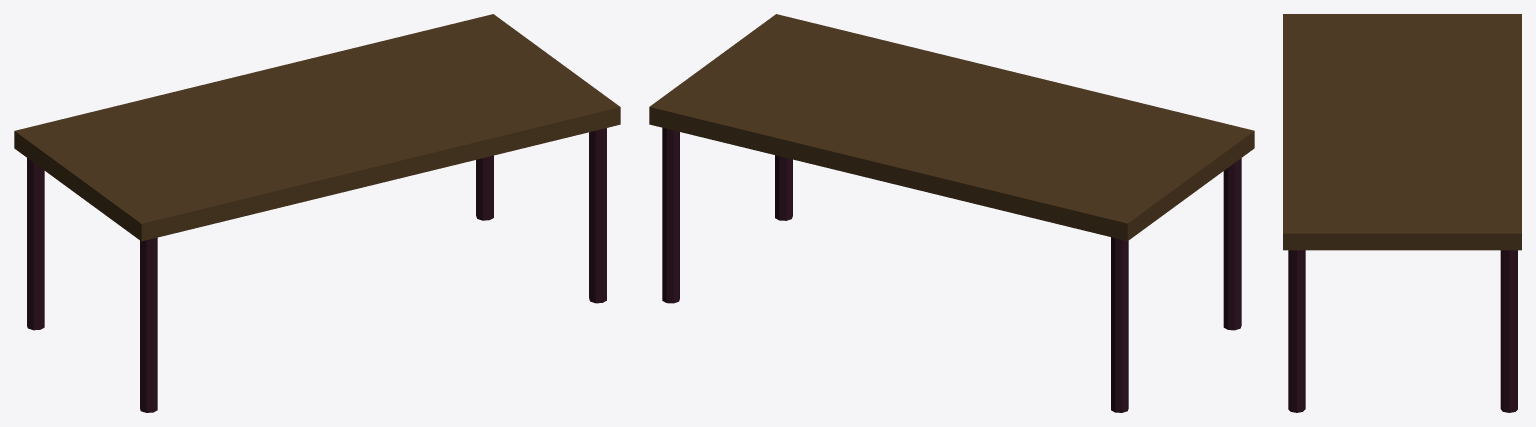
File: Tisch.fbx
The picture shows the model from 3 angles, left to right: view 1: azimuth 30°, elevation 25°; view 2: azimuth 150°, elevation 25°; view 3: azimuth 270°, elevation 25°; orthographic projection. The views are drawn at different scales.
Visible parts, largest first — view 1: Tisch; view 2: Tisch; view 3: Tisch.
Part boxes in pixels (x1,y1,x2,y2): Tisch: (14, 14, 620, 412); Tisch: (649, 14, 1254, 412); Tisch: (1283, 14, 1521, 412).
Bounding box in the file's own units: 435 × 169 × 200.
